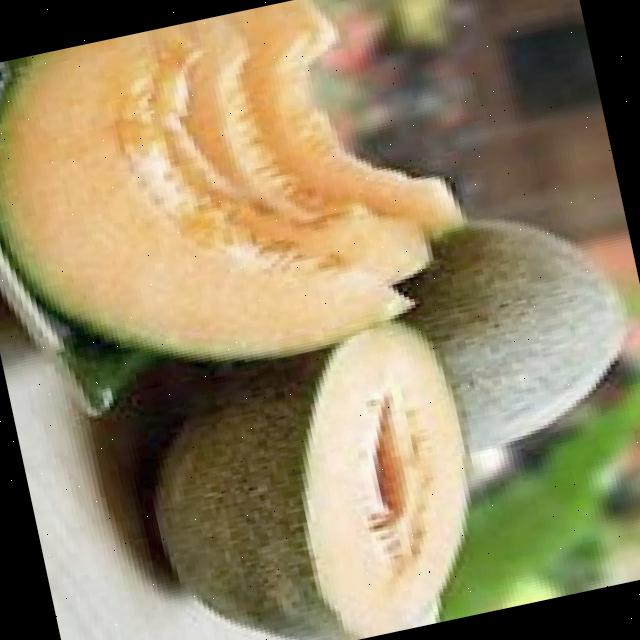Hami Melon: (126, 308, 501, 640), (365, 189, 640, 459)
